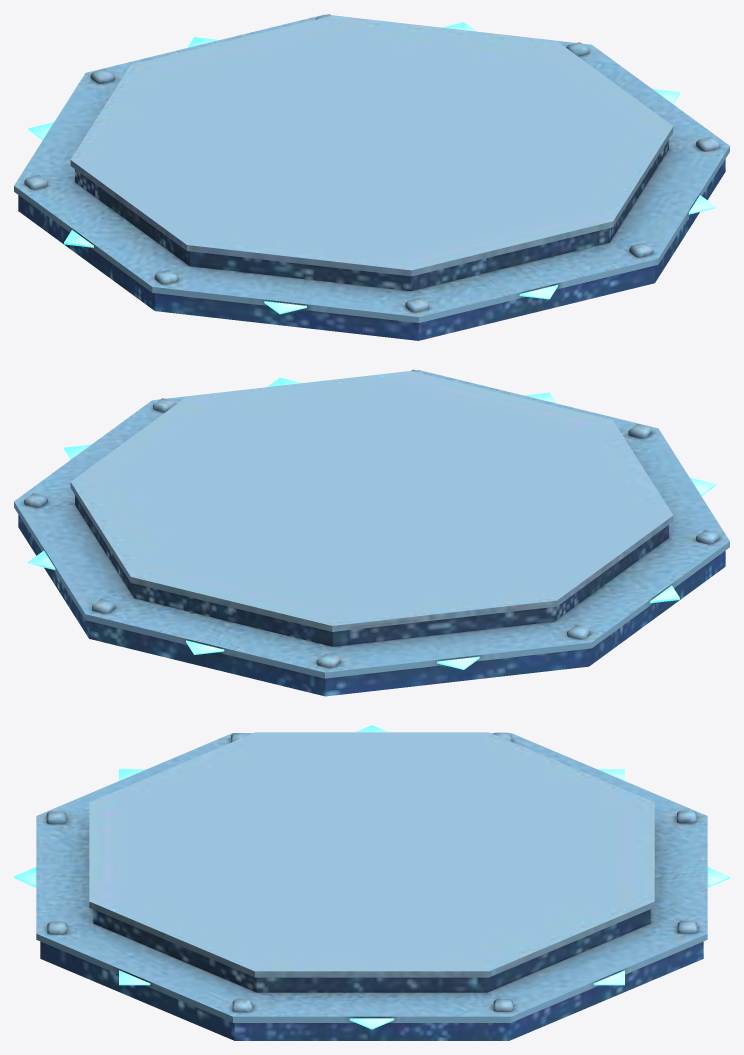
Rendered from base_core_frost.glb.
3 views of the same model, one above another, from view 1: azimuth 30°, elevation 25°; view 2: azimuth 150°, elevation 25°; view 3: azimuth 270°, elevation 25° (orthographic).
Parts seen in each view (by area): view 1: base_core_frost; view 2: base_core_frost; view 3: base_core_frost.
Boxes of the visible parts, bbox=[...] form: base_core_frost: bbox=[14, 14, 729, 340]; base_core_frost: bbox=[14, 369, 729, 696]; base_core_frost: bbox=[14, 725, 729, 1040].
Bounding box in the file's own units: 12.77 × 0.96 × 12.77.
Materials: 1 (1 with a texture image).
